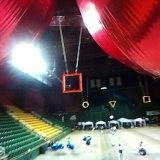Orange_Square_GShape: (63, 73, 82, 93)
Yellow_Circle_GShape: (82, 101, 89, 109)
Yellow_Square_GShape: (142, 95, 150, 104)
Yellow_Triangle_Gshape: (109, 100, 117, 108)
